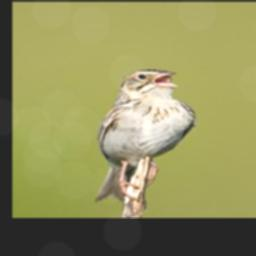Sparrow: (92, 68, 200, 204)
